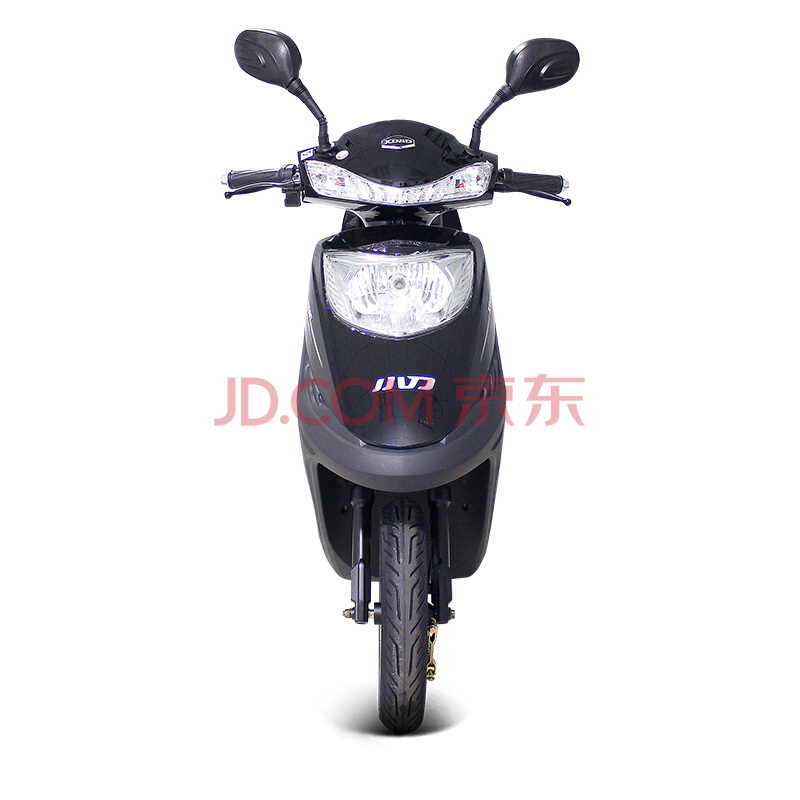电动车: (208, 17, 604, 744)
